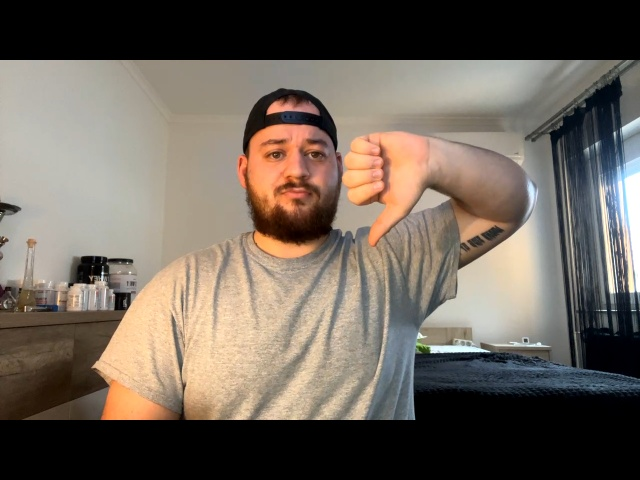ThumbsDown: (342, 130, 432, 248)
